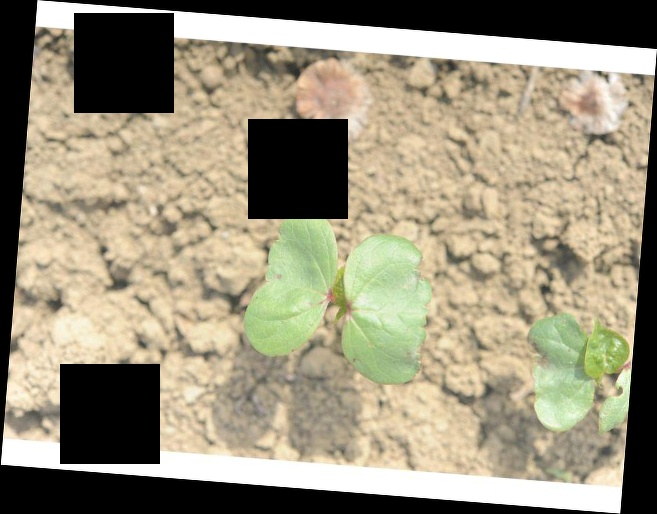cotton: (246, 213, 432, 382), (524, 314, 629, 435)
